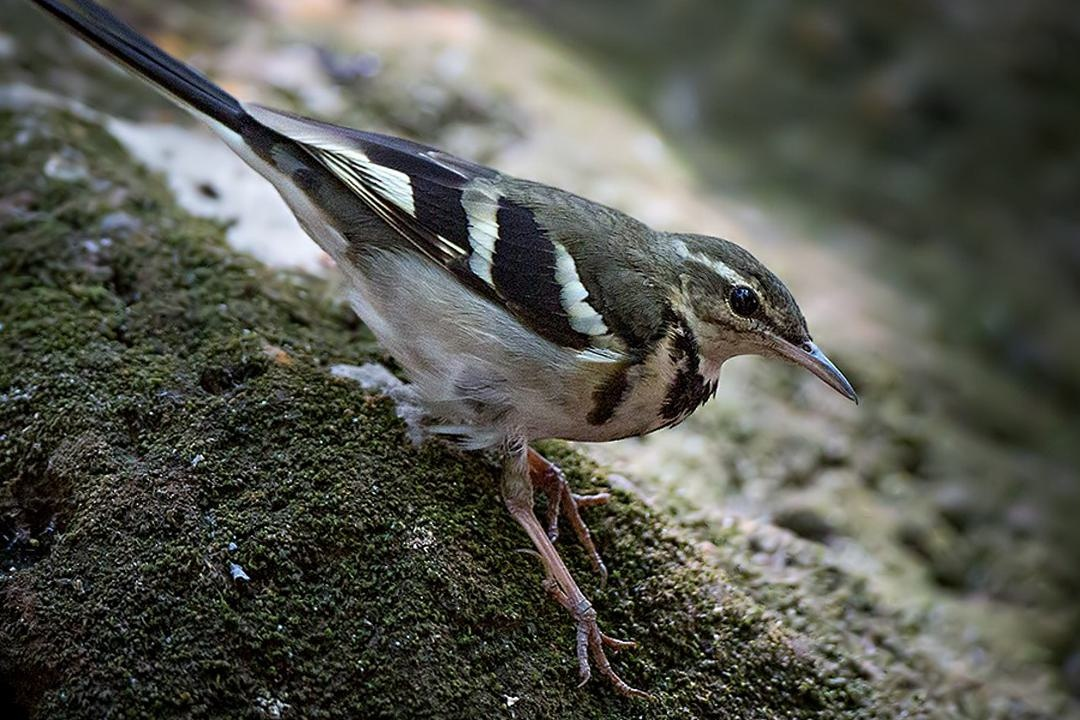wagtail: (133, 29, 896, 512)
